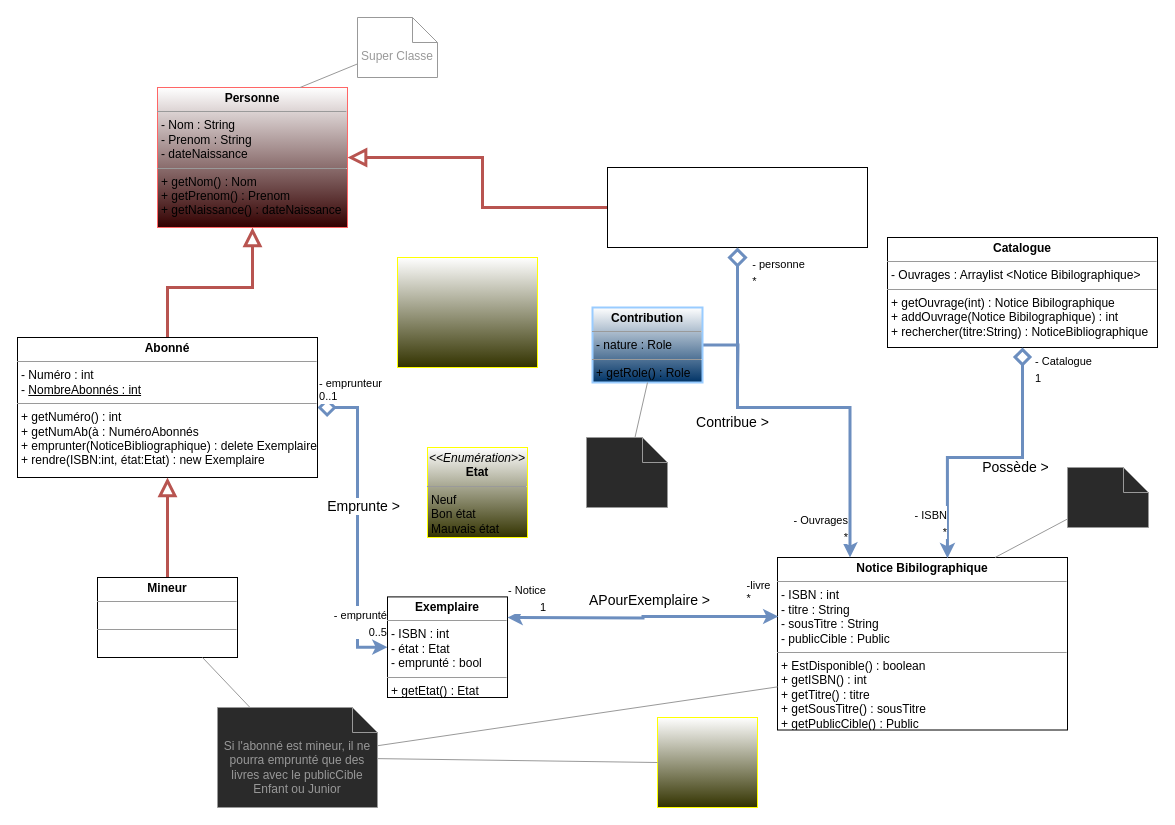
Image size: 1175x825. Some labels were removed from this diagram. The centre of each missing label's shape, as x and y in pixels:
"<<Enumération>> Public Enfant Junior Adulte" goes at point (707, 762).
"<<Enumération>> Role Auteur Rédacteur de la préface Traducteur Illustrateur" goes at point (467, 312).
"Classe d'association" goes at point (627, 472).
"Contributeurs + getOuvrage(int) : Notice Bibliographique" goes at point (737, 207).
"Ouvrage" goes at point (1107, 497).
